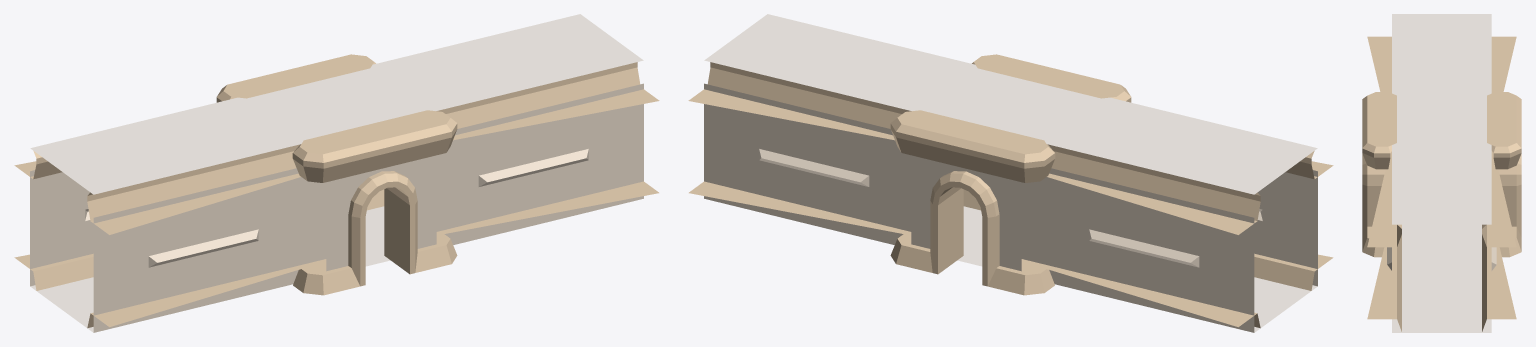
Rendered from LibraryCorridor-transformed.glb.
3 renders of one model, left to right at view 1: azimuth 30°, elevation 25°; view 2: azimuth 150°, elevation 25°; view 3: azimuth 270°, elevation 25°, orthographic. The views are drawn at different scales.
Parts seen in each view (by area): view 1: object1.004, object2.001, object1.002; view 2: object1.004, object2.001, object1.002; view 3: object1.002, object2.001, object1.004.
Boxes of the visible parts, <box> form: object1.004: <box>30,83,643,332</box>; object2.001: <box>14,54,659,328</box>; object1.002: <box>30,14,643,332</box>; object1.004: <box>704,83,1317,332</box>; object2.001: <box>688,54,1333,328</box>; object1.002: <box>704,14,1317,332</box>; object1.002: <box>1392,14,1491,332</box>; object2.001: <box>1362,36,1521,331</box>; object1.004: <box>1387,247,1496,270</box>.
Size of the model in its own units: 5 by 1.2 by 1.6.
